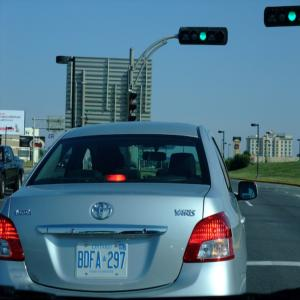Vehicle-registration-plate: (71, 234, 131, 285)
